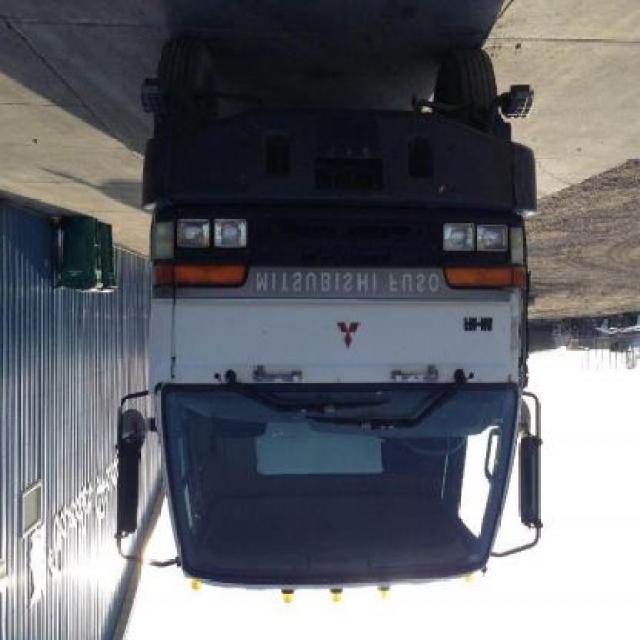truck: (115, 35, 542, 602)
